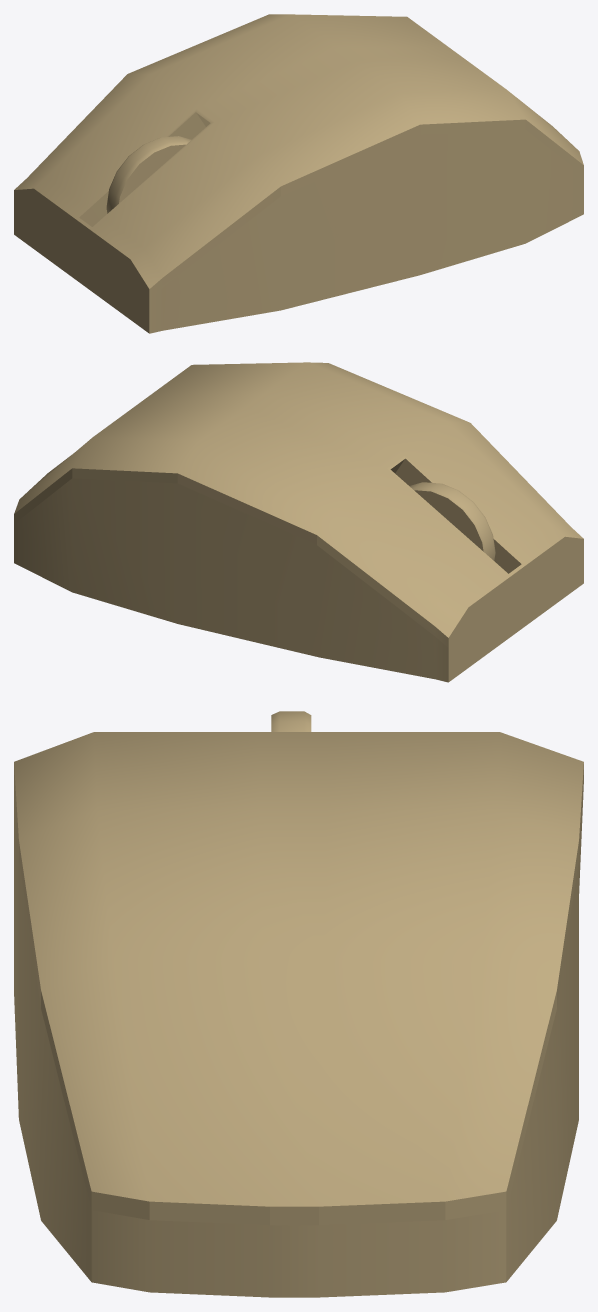
The model's file is mouse.fbx.
The picture shows the model from 3 angles, top to bottom: view 1: azimuth 30°, elevation 25°; view 2: azimuth 150°, elevation 25°; view 3: azimuth 270°, elevation 25°; orthographic projection. The views are drawn at different scales.
Parts seen in each view (by area): view 1: pasted__polySurface314, polySurface2; view 2: pasted__polySurface314, polySurface2; view 3: pasted__polySurface314, polySurface2.
Part boxes in pixels (x1,y1,x2,y2): pasted__polySurface314: (14, 14, 583, 333); polySurface2: (106, 136, 191, 213); pasted__polySurface314: (14, 362, 583, 682); polySurface2: (409, 482, 495, 560); pasted__polySurface314: (14, 732, 583, 1297); polySurface2: (271, 711, 311, 731).
Bounding box in the file's own units: 3.89 × 1.34 × 2.24.
